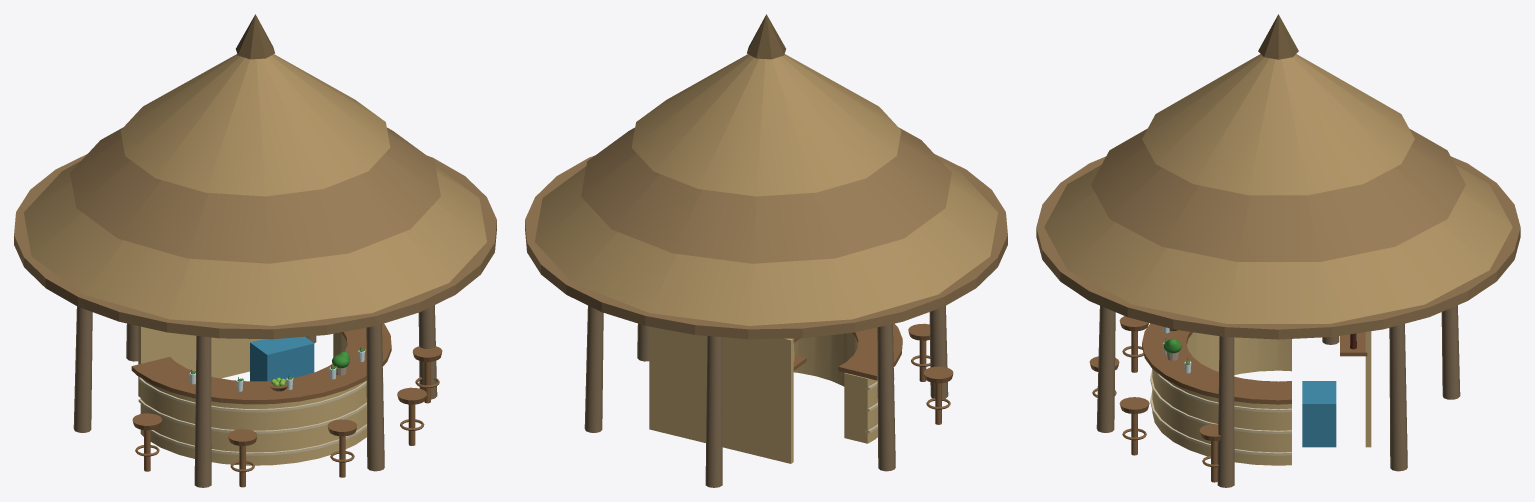
Rendered from bar.glb.
3 views of the same model, side by side, from view 1: azimuth 30°, elevation 25°; view 2: azimuth 150°, elevation 25°; view 3: azimuth 270°, elevation 25° (orthographic).
Parts seen in each view (by area): view 1: thatch_6, thatch_8, thatch2_7, thatch2_10, bamboo_11, teak_12, bamboo_18, cooler_55, trunk_2, trunk_1, trunk_3, trunk_0 (+4 smaller); view 2: thatch_6, thatch_8, thatch2_7, bamboo_18, thatch2_10, bamboo_11, trunk_4, trunk_3, trunk_5, teak_12, trunk_2, ridge_9; view 3: thatch_6, thatch_8, thatch2_7, thatch2_10, bamboo_11, teak_12, trunk_0, trunk_5, cooler_55, trunk_1, trunk_4, ridge_9 (+4 smaller).
Part boxes in pixels (x1,y1,x2,y2): thatch_6: (23, 161, 486, 325); thatch_8: (120, 54, 390, 196); thatch2_7: (70, 127, 440, 263); thatch2_10: (14, 154, 496, 339); bamboo_11: (140, 332, 366, 465); teak_12: (131, 323, 391, 404); bamboo_18: (138, 326, 263, 397); cooler_55: (250, 336, 314, 381); trunk_2: (194, 336, 211, 487); trunk_1: (366, 324, 384, 471); trunk_3: (73, 306, 92, 432); trunk_0: (418, 305, 437, 399); thatch_6: (535, 161, 998, 325); thatch_8: (631, 54, 901, 196); thatch2_7: (581, 127, 951, 263); bamboo_18: (649, 326, 793, 463); thatch2_10: (525, 154, 1007, 339); bamboo_11: (793, 333, 877, 443); trunk_4: (705, 336, 722, 487); trunk_3: (877, 324, 895, 471); trunk_5: (584, 305, 603, 432); teak_12: (838, 323, 902, 380); trunk_2: (929, 306, 948, 398); ridge_9: (747, 14, 785, 59); thatch_6: (1044, 165, 1512, 323); thatch_8: (1142, 54, 1414, 195); thatch2_7: (1091, 128, 1465, 261); thatch2_10: (1036, 156, 1520, 339); bamboo_11: (1152, 332, 1291, 465); teak_12: (1142, 323, 1291, 404); trunk_0: (1217, 336, 1234, 487); trunk_5: (1389, 324, 1407, 471); cooler_55: (1302, 381, 1336, 447); trunk_1: (1096, 305, 1115, 432); trunk_4: (1441, 305, 1460, 399); ridge_9: (1258, 14, 1298, 59).
Size of the model in its own units: 7.1 by 6.45 by 7.1.
